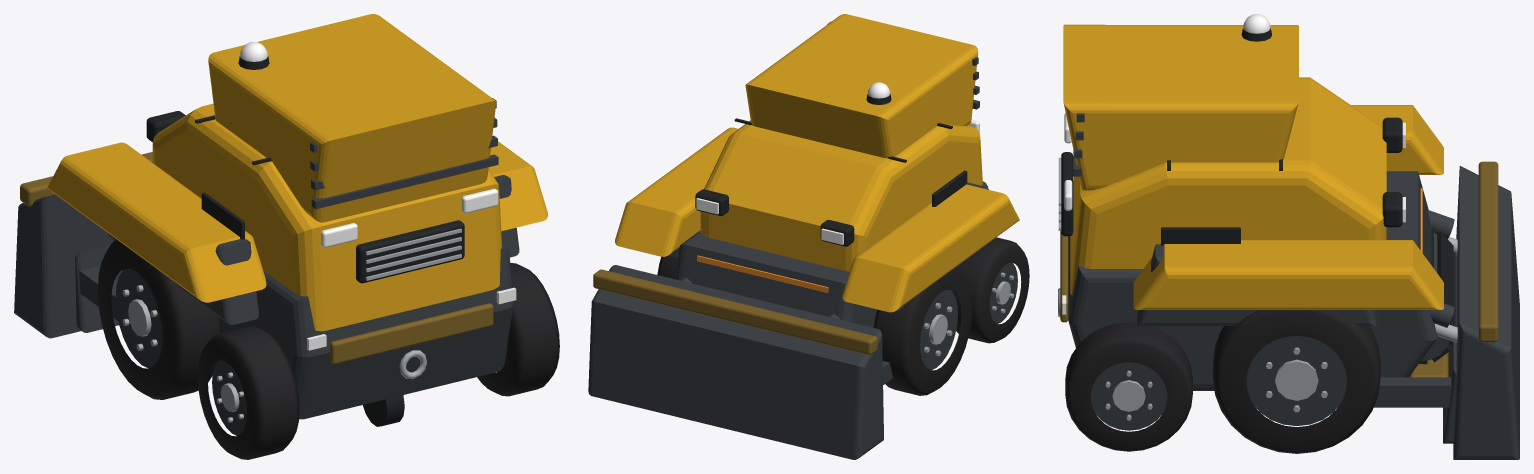
Rendered from Machine_dozer_T2.glb.
3 renders of one model, left to right at view 1: azimuth 30°, elevation 25°; view 2: azimuth 150°, elevation 25°; view 3: azimuth 270°, elevation 25°, orthographic. The views are drawn at different scales.
Visible parts, largest first — view 1: Tier2_Parts_MAT_Player_Shell_18, Tier1_Parts_MAT_Player_Gunmetal_9, Body_Shell_0, Axle_Rear_MAT_tread_14, Axle_Front_MAT_tread_6, Tier1_Parts_MAT_darkTrim_10, Tier1_Parts_MAT_Player_Hazard_12, Tier2_Parts_MAT_Player_Gunmetal_19, Axle_Front_MAT_Player_Gunmetal_7, Tier1_Parts_MAT_steel_11, Tier1_Parts_MAT_lamps_13, Axle_Rear_MAT_Player_Gunmetal_15 (+2 smaller); view 2: Tier1_Parts_MAT_Player_Gunmetal_9, Tier2_Parts_MAT_Player_Shell_18, Body_Shell_0, Axle_Front_MAT_tread_6, Tier1_Parts_MAT_Player_Hazard_12, Axle_Rear_MAT_tread_14, Tier1_Parts_MAT_darkTrim_10, Axle_Front_MAT_Player_Gunmetal_7, Axle_Rear_MAT_Player_Gunmetal_15, Intake_GlowStrip_3, Axle_Front_MAT_steel_8, Tier1_Parts_MAT_lamps_13; view 3: Tier2_Parts_MAT_Player_Shell_18, Tier1_Parts_MAT_Player_Gunmetal_9, Body_Shell_0, Axle_Front_MAT_tread_6, Axle_Rear_MAT_tread_14, Axle_Front_MAT_Player_Gunmetal_7, Tier1_Parts_MAT_Player_Hazard_12, Tier1_Parts_MAT_darkTrim_10, Axle_Rear_MAT_Player_Gunmetal_15, Tier2_Parts_MAT_Player_Gunmetal_19, Axle_Front_MAT_steel_8, Intake_Roller_MAT_darkTrim_2 (+3 smaller).
Boxes of the visible parts, <box> form: Tier2_Parts_MAT_Player_Shell_18: <box>47,14,547,302</box>; Tier1_Parts_MAT_Player_Gunmetal_9: <box>14,175,519,419</box>; Body_Shell_0: <box>152,103,501,331</box>; Axle_Rear_MAT_tread_14: <box>197,263,559,459</box>; Axle_Front_MAT_tread_6: <box>97,239,221,399</box>; Tier1_Parts_MAT_darkTrim_10: <box>146,111,464,426</box>; Tier1_Parts_MAT_Player_Hazard_12: <box>20,152,493,364</box>; Tier2_Parts_MAT_Player_Gunmetal_19: <box>75,98,498,332</box>; Axle_Front_MAT_Player_Gunmetal_7: <box>115,269,162,368</box>; Tier1_Parts_MAT_steel_11: <box>365,228,461,378</box>; Tier1_Parts_MAT_lamps_13: <box>307,188,516,350</box>; Axle_Rear_MAT_Player_Gunmetal_15: <box>212,347,507,435</box>; Tier1_Parts_MAT_Player_Gunmetal_9: <box>588,181,996,459</box>; Tier2_Parts_MAT_Player_Shell_18: <box>615,14,1019,312</box>; Body_Shell_0: <box>700,120,982,271</box>; Axle_Front_MAT_tread_6: <box>657,255,972,395</box>; Tier1_Parts_MAT_Player_Hazard_12: <box>593,269,877,354</box>; Axle_Rear_MAT_tread_14: <box>952,237,1029,343</box>; Tier1_Parts_MAT_darkTrim_10: <box>695,118,967,246</box>; Axle_Front_MAT_Player_Gunmetal_7: <box>920,289,957,370</box>; Axle_Rear_MAT_Player_Gunmetal_15: <box>989,263,1017,323</box>; Intake_GlowStrip_3: <box>697,255,828,292</box>; Axle_Front_MAT_steel_8: <box>924,303,952,355</box>; Tier1_Parts_MAT_lamps_13: <box>696,120,979,244</box>; Tier2_Parts_MAT_Player_Shell_18: <box>1063,24,1443,309</box>; Tier1_Parts_MAT_Player_Gunmetal_9: <box>1068,166,1519,459</box>; Body_Shell_0: <box>1070,77,1386,295</box>; Axle_Front_MAT_tread_6: <box>1213,310,1380,453</box>; Axle_Rear_MAT_tread_14: <box>1065,322,1192,451</box>; Axle_Front_MAT_Player_Gunmetal_7: <box>1246,336,1346,425</box>; Tier1_Parts_MAT_Player_Hazard_12: <box>1060,161,1498,377</box>; Tier1_Parts_MAT_darkTrim_10: <box>1061,117,1402,245</box>; Axle_Rear_MAT_Player_Gunmetal_15: <box>1090,362,1167,430</box>; Tier2_Parts_MAT_Player_Gunmetal_19: <box>1073,113,1456,443</box>; Axle_Front_MAT_steel_8: <box>1266,347,1327,412</box>; Intake_Roller_MAT_darkTrim_2: <box>1419,228,1455,364</box>.
Size of the model in its own units: 1 by 0.935 by 1.16.
